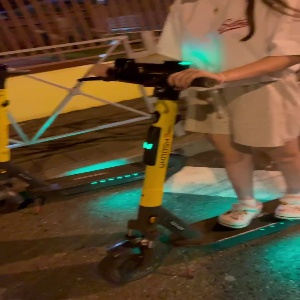human on a scooter: (74, 1, 300, 285)
